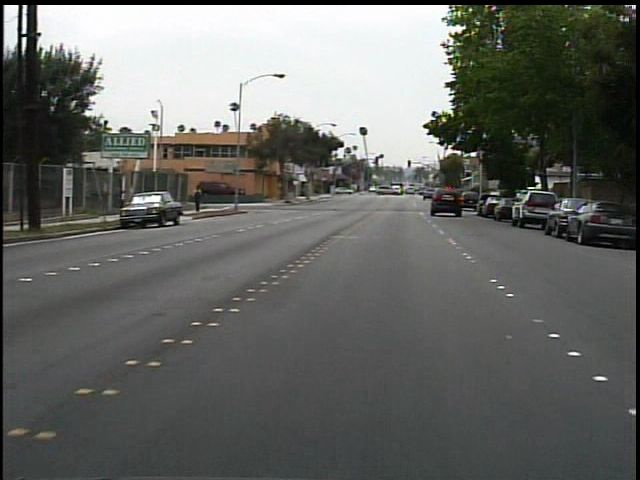person: (195, 182, 211, 216)
